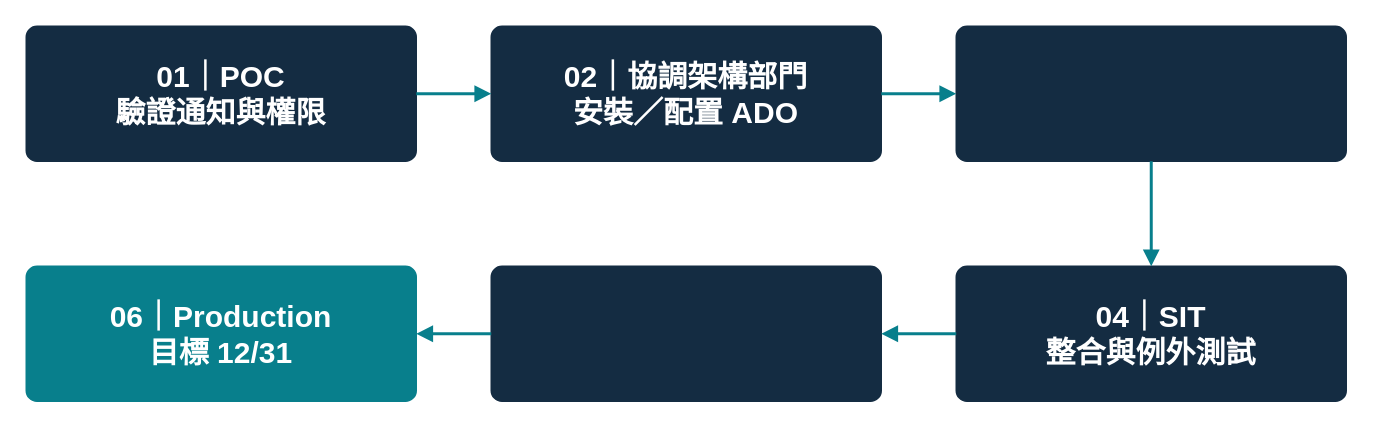
The diagram is 1373 pixels wide and 428 high, and some of its shapes have lost their labels. The shapes that lost their labels are listed below. From the top down, each one's centre as x and y in pixels, then its label:
At point 1150,93: "03｜整合 GitLab 串接通知與產物".
At point 685,333: "05｜UAT 驗收與復原演練".
